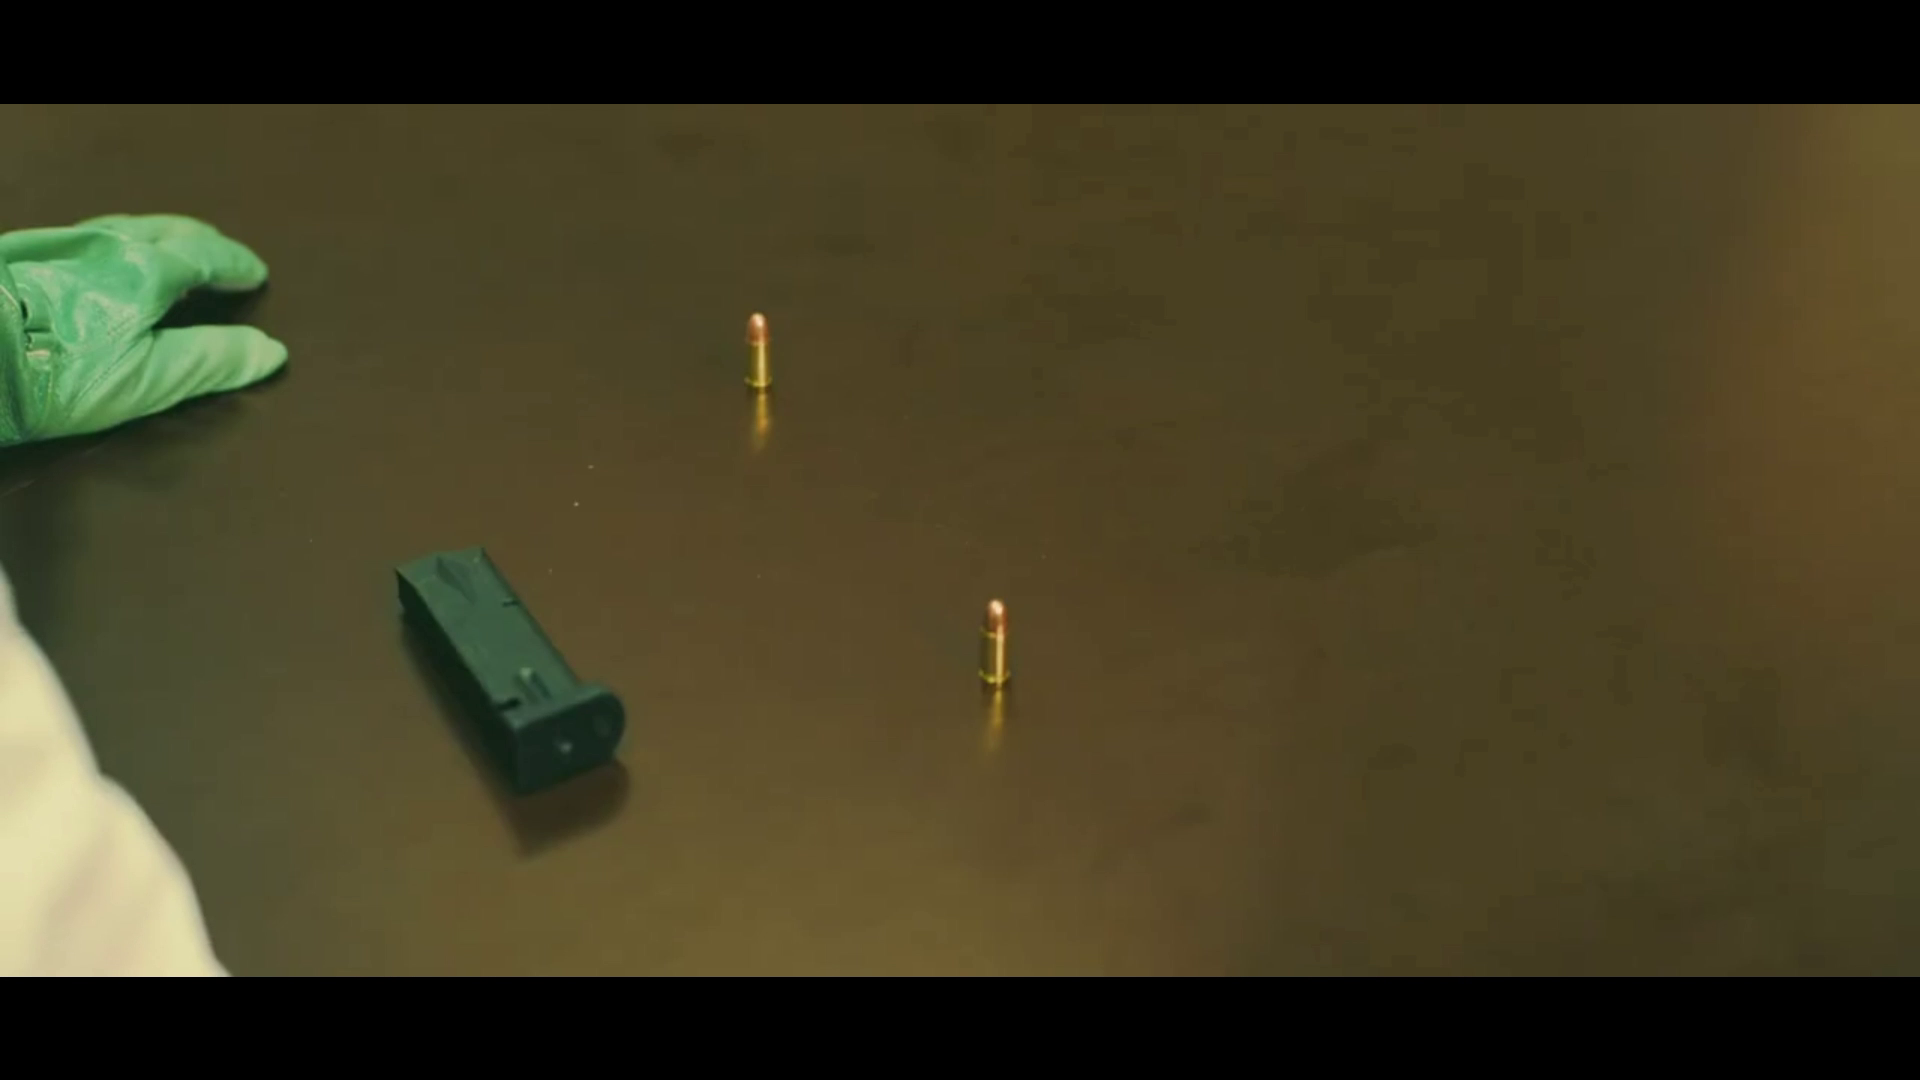Bullet: (977, 600, 1015, 690), (740, 311, 773, 396)
